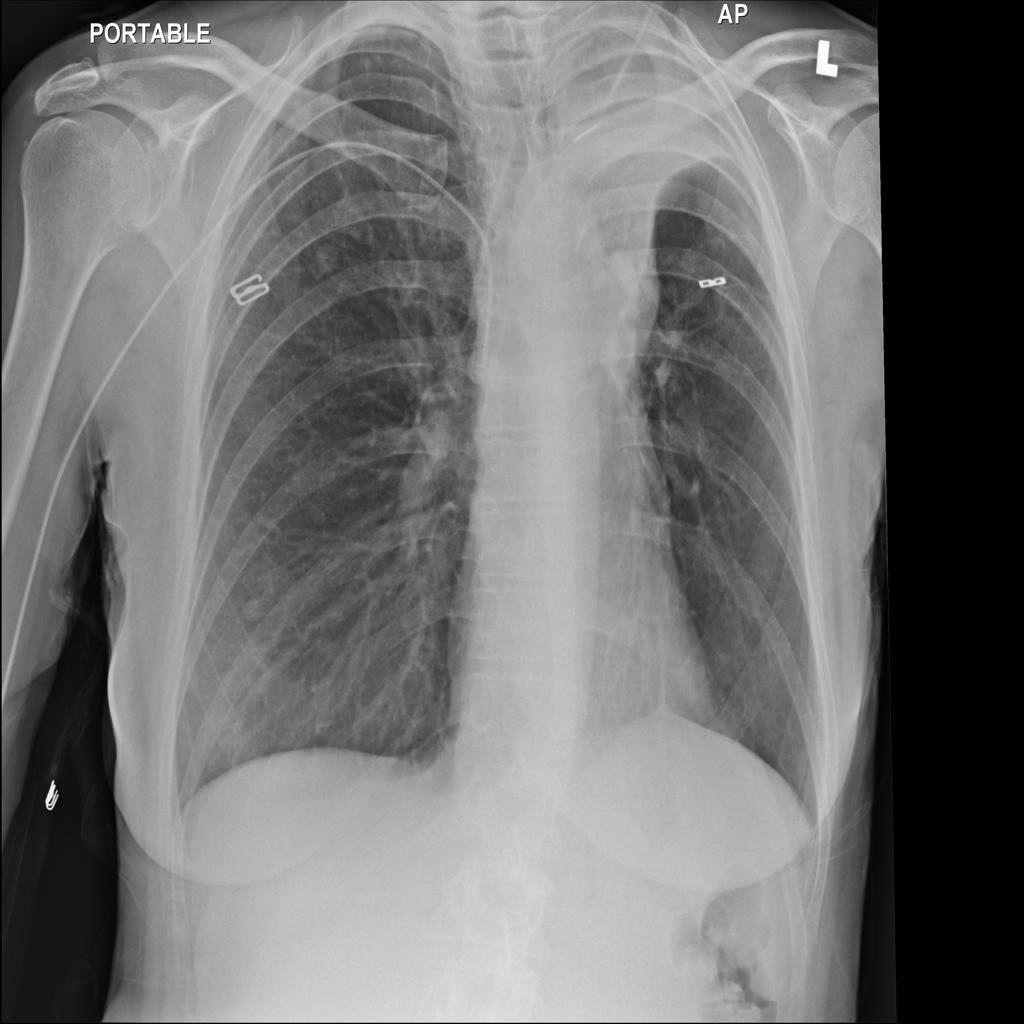nodule: (302, 232, 349, 286), (232, 581, 281, 631)
